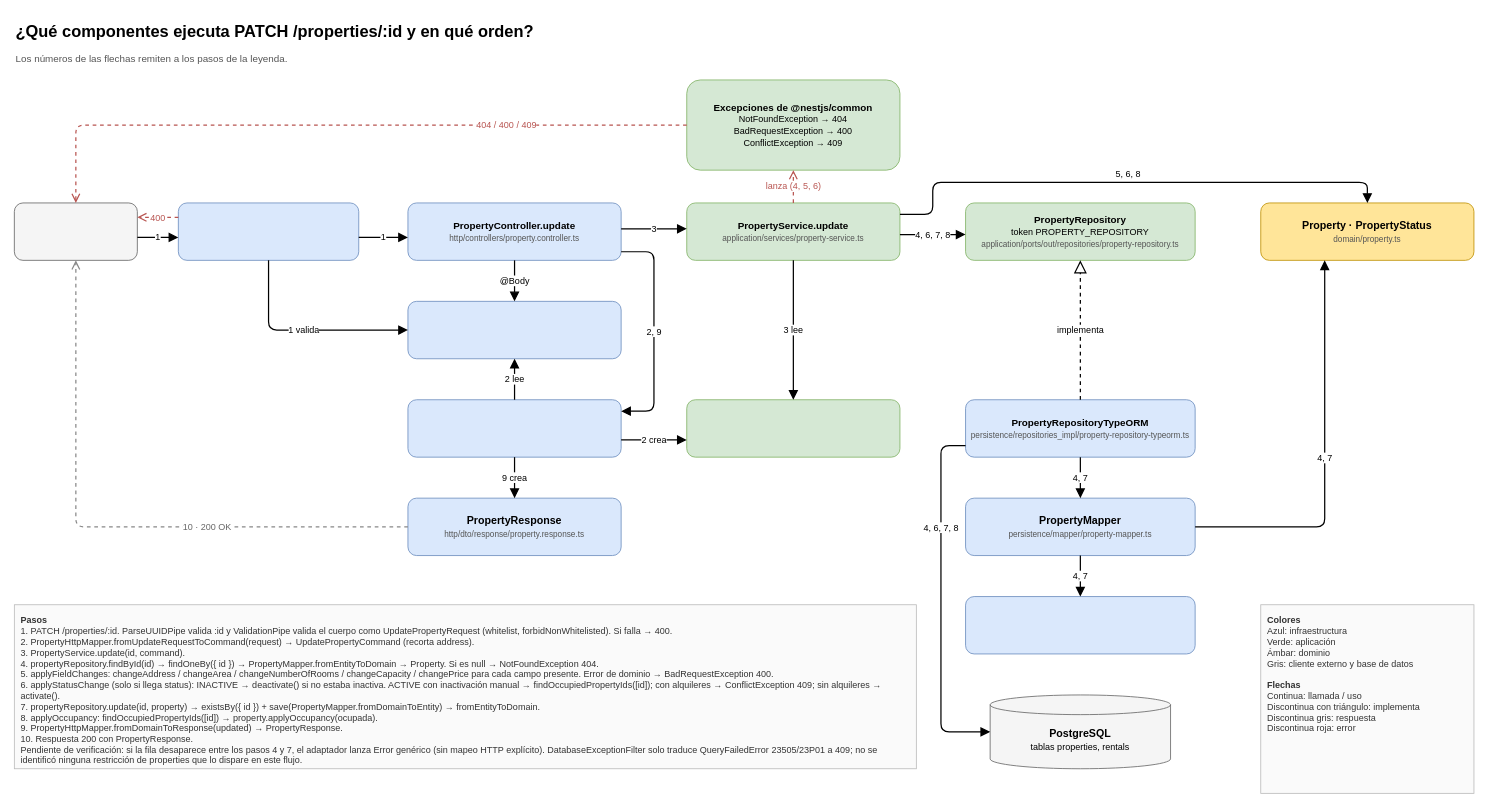
This 1488x808 diagram has some shape labels left out. The shapes that lost their labels are listed below. From the top down, each one's centre as x and y in pixels, then its label:
At (x=75, y=231): "Cliente HTTP".
At (x=268, y=231): "ValidationPipe + ParseUUIDPipe en :id main.ts (global)".
At (x=514, y=330): "UpdatePropertyRequest http/dto/request/update/update-property.request.ts".
At (x=514, y=428): "PropertyHttpMapper http/mappers/property-http.mapper.ts".
At (x=793, y=428): "UpdatePropertyCommand application/commands/update-property.command.ts".
At (x=1080, y=625): "PropertyEntity · RentalEntity @Entity properties · rentals persistence/entities/".
